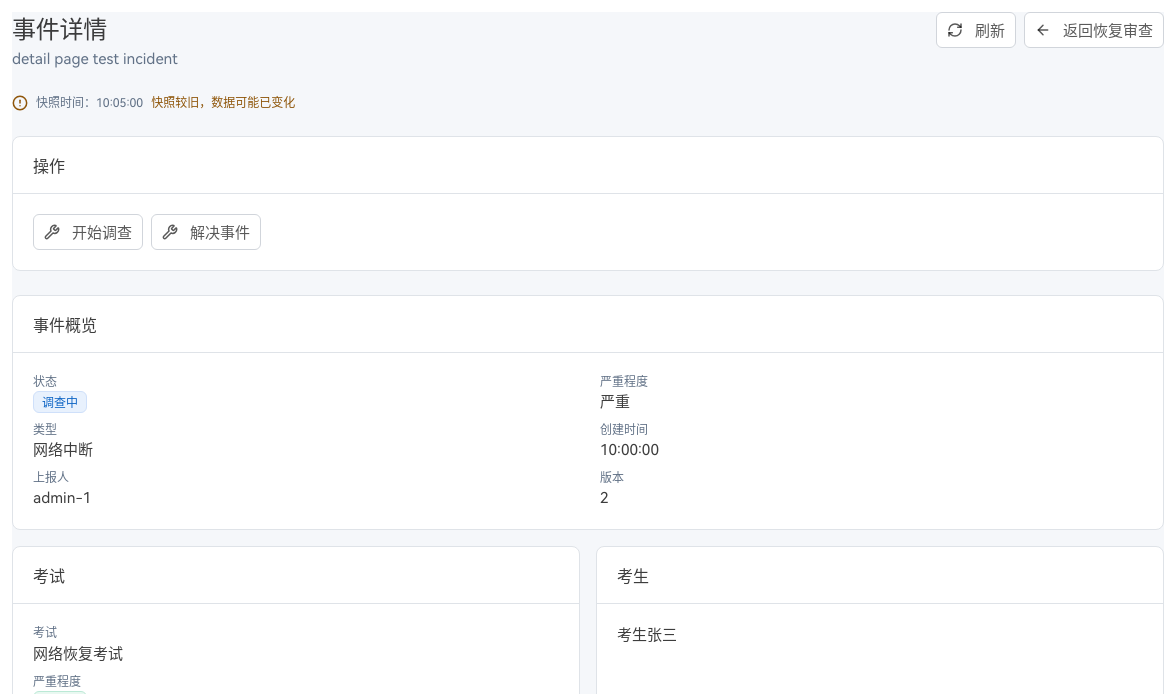
Scenario: RecoveryIncidentDetailPage › keeps the loaded page on screen with an inline warning when a background refresh fails
Expected: the text "detail page test incident" is shown, [12,48,178,70]
Click the button "刷新" at (976, 30), box [936,12,1016,48]
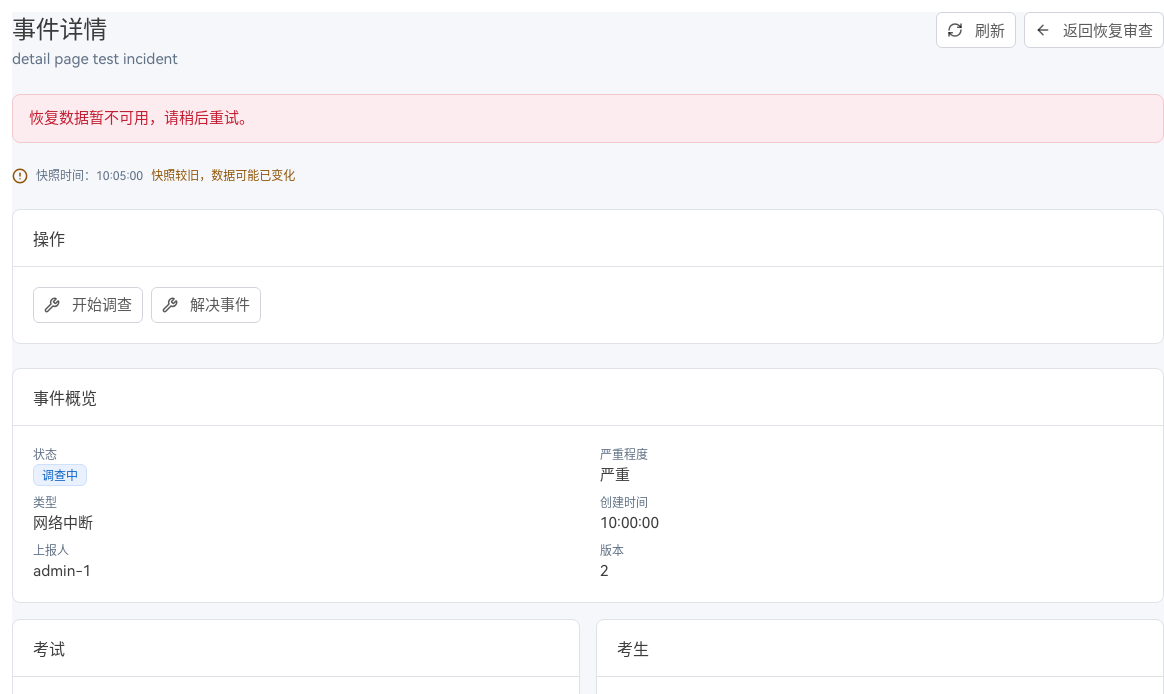
Expected: the text "detail page test incident" is shown, [12,48,178,70]
Now the text "恢复数据暂不可用，请稍后重试。" is shown, box [12,94,1163,142]
